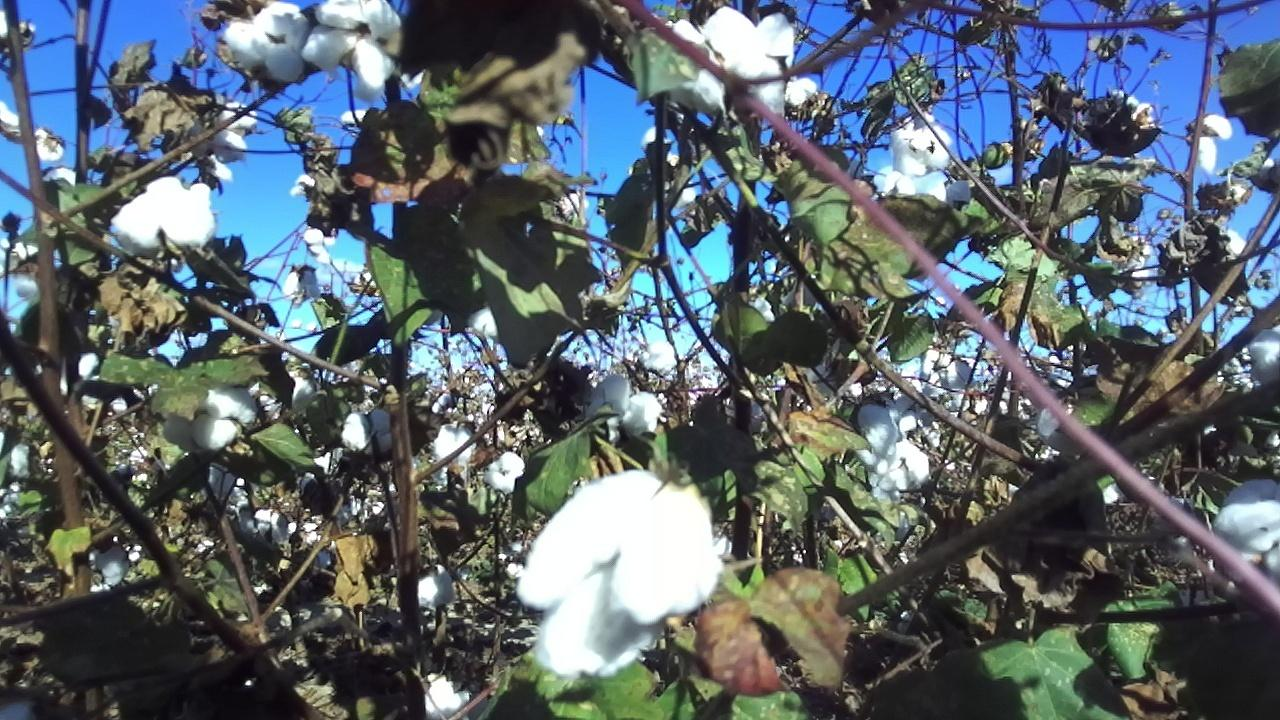cotton_ready: (520, 467, 724, 679), (662, 0, 797, 117), (299, 0, 407, 100), (112, 178, 219, 252), (164, 378, 260, 457), (222, 1, 307, 89), (1215, 481, 1280, 591), (591, 373, 664, 441), (890, 111, 950, 174), (851, 401, 900, 478), (866, 440, 935, 491), (340, 409, 399, 459), (425, 670, 476, 720), (1248, 325, 1280, 385), (486, 450, 524, 492)
